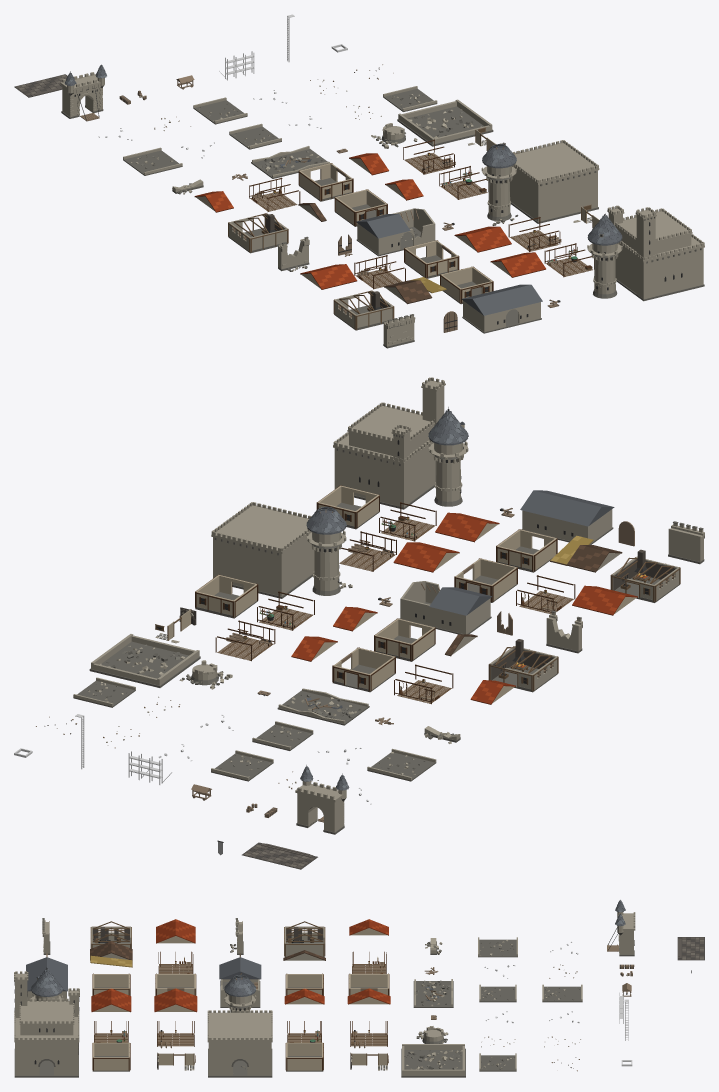
File: castle_kit.fbx
3 views of the same model, one above another, from view 1: azimuth 30°, elevation 25°; view 2: azimuth 150°, elevation 25°; view 3: azimuth 270°, elevation 25° (orthographic). The views are drawn at different scales.
Visible parts, largest first — view 1: Keep, Keep_Damaged, Barracks, Barracks_Damaged, Keep_Rubble, Wall_Corner_Tower, Wall_Corner_Tower_Damaged, Gate, Blacksmith_Forge, Blacksmith_Forge_Damaged, Carpenter_Damaged, Carpenter (+23 smaller); view 2: Keep, Keep_Damaged, Barracks_Damaged, Barracks, Keep_Rubble, Wall_Corner_Tower, Wall_Corner_Tower_Damaged, Blacksmith_Forge_Damaged, Blacksmith_Forge, Gate, Carpenter_Damaged, Barracks_Rubble (+22 smaller); view 3: Keep, Keep_Damaged, Keep_Rubble, Blacksmith_Forge_Damaged, Fletcher, Fletcher_Damaged, Barracks_Damaged, Barracks_Rubble, Gate, Wall_Corner_Tower_Damaged, Barracks, Blacksmith_Forge_Roof.001 (+27 smaller).
Part boxes in pixels (left/top/right/bottom): Keep: left=607, top=205, right=704, bottom=301; Keep_Damaged: left=510, top=140, right=599, bottom=223; Barracks: left=461, top=284, right=542, bottom=333; Barracks_Damaged: left=356, top=208, right=435, bottom=256; Keep_Rubble: left=397, top=99, right=493, bottom=146; Wall_Corner_Tower: left=587, top=213, right=622, bottom=298; Wall_Corner_Tower_Damaged: left=481, top=144, right=518, bottom=225; Gate: left=60, top=64, right=106, bottom=121; Blacksmith_Forge: left=333, top=290, right=394, bottom=330; Blacksmith_Forge_Damaged: left=228, top=213, right=288, bottom=253; Carpenter_Damaged: left=298, top=163, right=353, bottom=201; Carpenter: left=404, top=240, right=459, bottom=278; Keep: left=333, top=377, right=445, bottom=509; Keep_Damaged: left=211, top=502, right=314, bottom=598; Barracks_Damaged: left=400, top=581, right=492, bottom=634; Barracks: left=520, top=490, right=614, bottom=544; Keep_Rubble: left=89, top=634, right=200, bottom=687; Wall_Corner_Tower: left=428, top=407, right=468, bottom=506; Wall_Corner_Tower_Damaged: left=306, top=506, right=352, bottom=595; Blacksmith_Forge_Damaged: left=488, top=639, right=558, bottom=692; Blacksmith_Forge: left=610, top=549, right=680, bottom=602; Gate: left=295, top=765, right=349, bottom=834; Carpenter_Damaged: left=332, top=647, right=395, bottom=692; Barracks_Rubble: left=277, top=688, right=369, bottom=725; Keep: left=14, top=971, right=79, bottom=1077; Keep_Damaged: left=207, top=1010, right=272, bottom=1077; Keep_Rubble: left=401, top=1044, right=465, bottom=1077; Blacksmith_Forge_Damaged: left=284, top=921, right=325, bottom=957; Fletcher: left=92, top=1042, right=130, bottom=1071; Fletcher_Damaged: left=285, top=1042, right=323, bottom=1071; Barracks_Damaged: left=219, top=957, right=261, bottom=1007; Barracks_Rubble: left=413, top=979, right=453, bottom=1007; Gate: left=607, top=900, right=635, bottom=956; Wall_Corner_Tower_Damaged: left=224, top=974, right=256, bottom=1012; Barracks: left=26, top=957, right=67, bottom=1000; Blacksmith_Forge_Roof.001: left=90, top=941, right=132, bottom=967.
Size of the model in its own units: 232 by 68.9 by 482.
